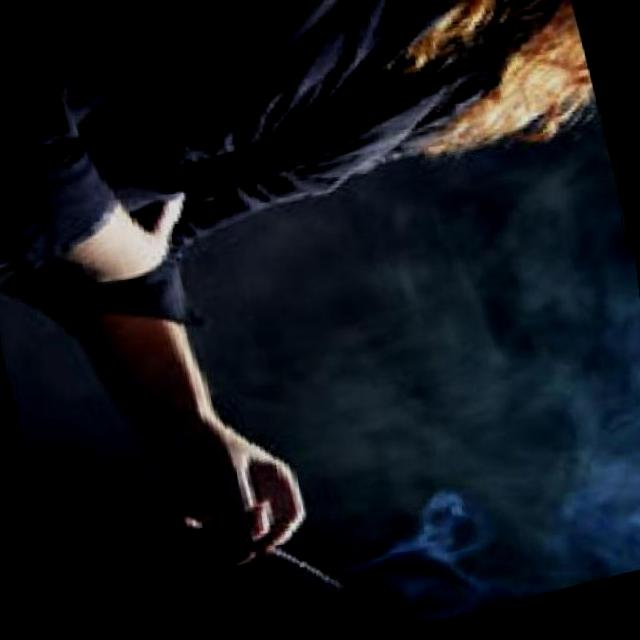smoke: (258, 530, 342, 612)
